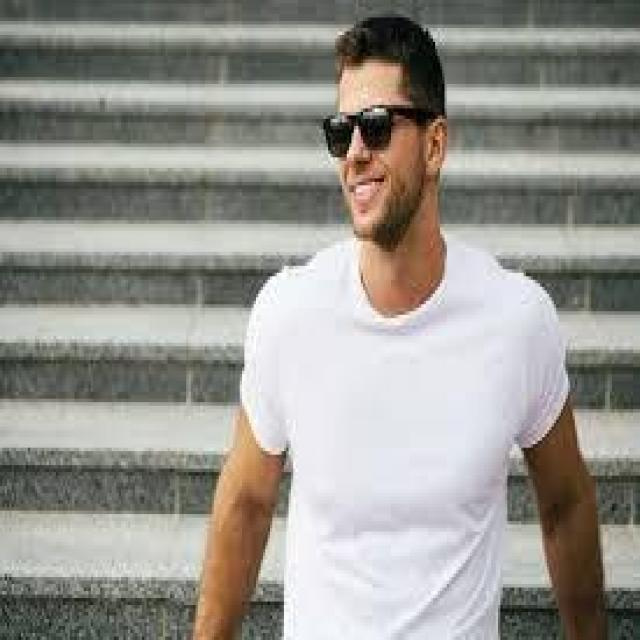Tshirt: (236, 231, 576, 640)
